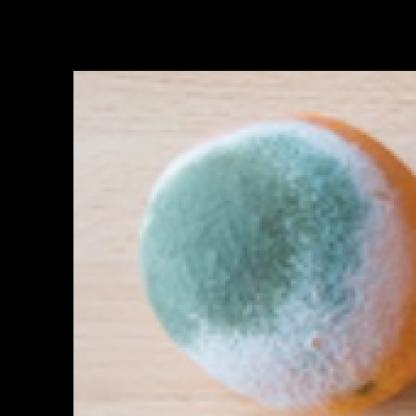rotten: (145, 114, 416, 416)
